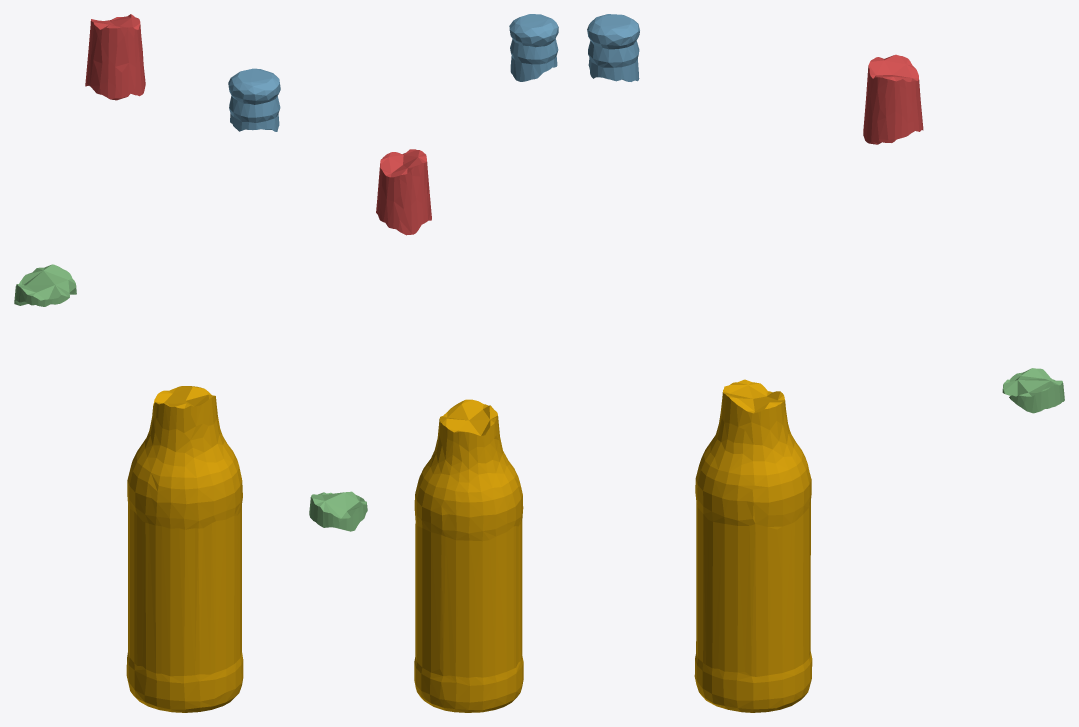
File: fractured_33_4pcs_transformed.glb
The picture shows the model from 3 angles, left to right: view 1: azimuth 30°, elevation 25°; view 2: azimuth 150°, elevation 25°; view 3: azimuth 270°, elevation 25°; orthographic projection. The views are drawn at different scales.
Visible parts, largest first — view 1: piece_0.obj, piece_1.obj, piece_2.obj, piece_3.obj; view 2: piece_0.obj, piece_1.obj, piece_2.obj, piece_3.obj; view 3: piece_0.obj, piece_1.obj, piece_2.obj, piece_3.obj.
Part boxes in pixels (<box>): piece_0.obj: <box>126,386,243,712</box>; piece_1.obj: <box>85,14,145,100</box>; piece_2.obj: <box>228,68,280,131</box>; piece_3.obj: <box>14,264,76,306</box>; piece_0.obj: <box>414,399,523,712</box>; piece_1.obj: <box>376,149,431,235</box>; piece_2.obj: <box>509,14,558,81</box>; piece_3.obj: <box>309,491,367,531</box>; piece_0.obj: <box>694,379,812,712</box>; piece_1.obj: <box>863,54,923,144</box>; piece_2.obj: <box>587,14,639,81</box>; piece_3.obj: <box>1002,368,1064,413</box>.
Size of the model in its own units: 0.2521 by 1.6 by 1.02.
